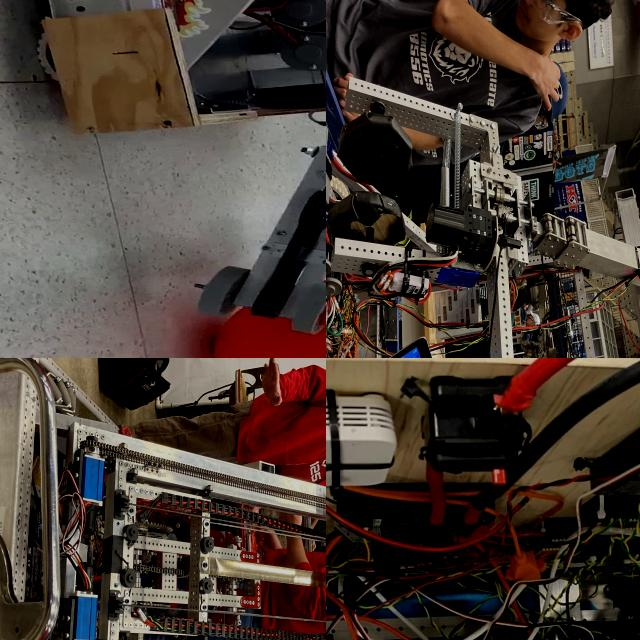FRC-Robots: (326, 0, 640, 358), (0, 368, 326, 640), (326, 358, 640, 640)
